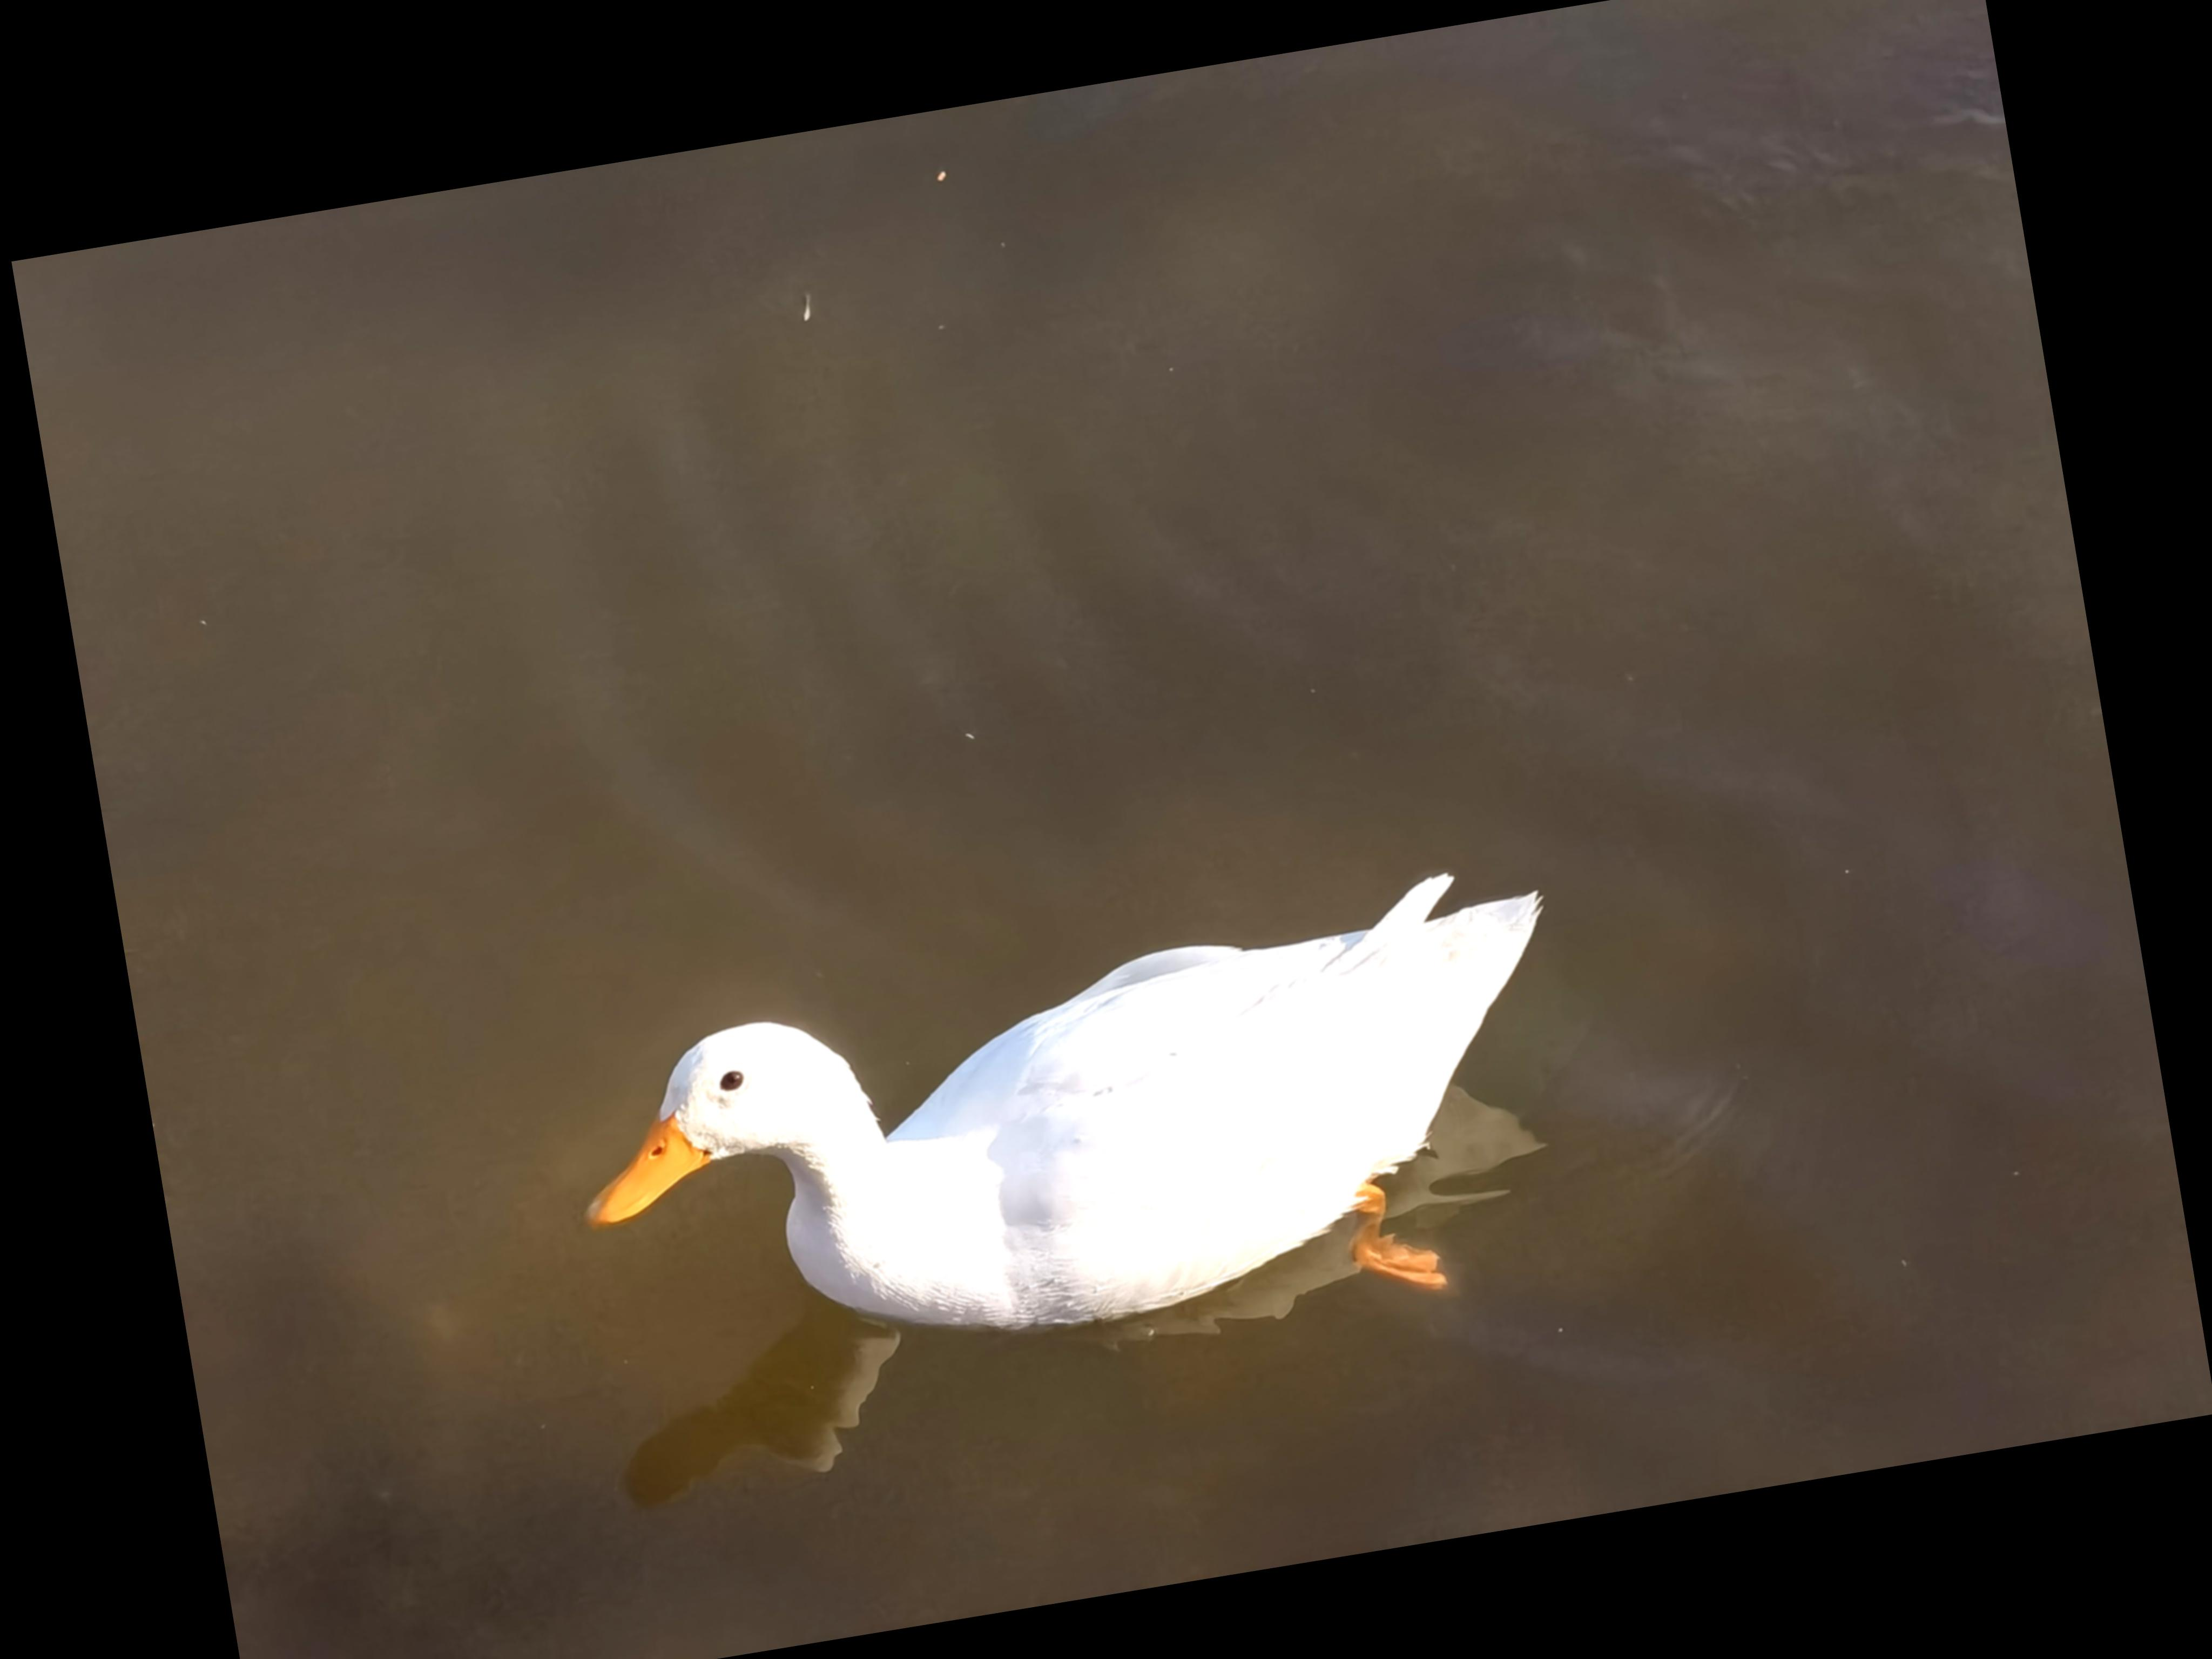duck: (531, 857, 1637, 1457)
